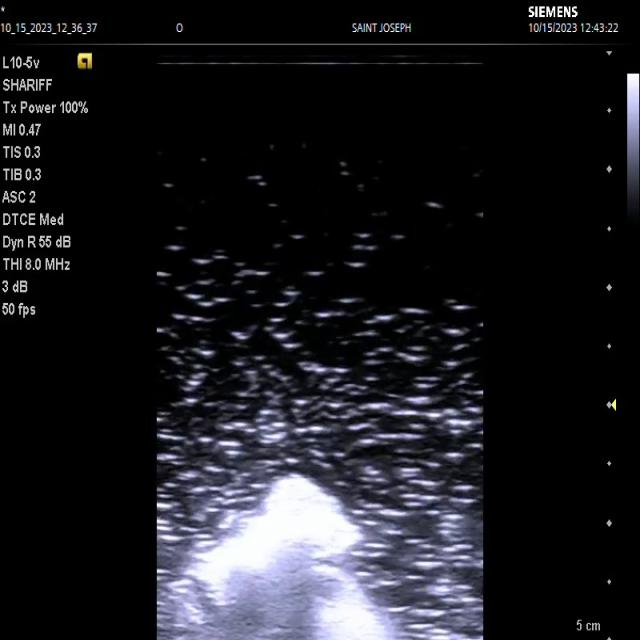tissue: (157, 475, 401, 640)
